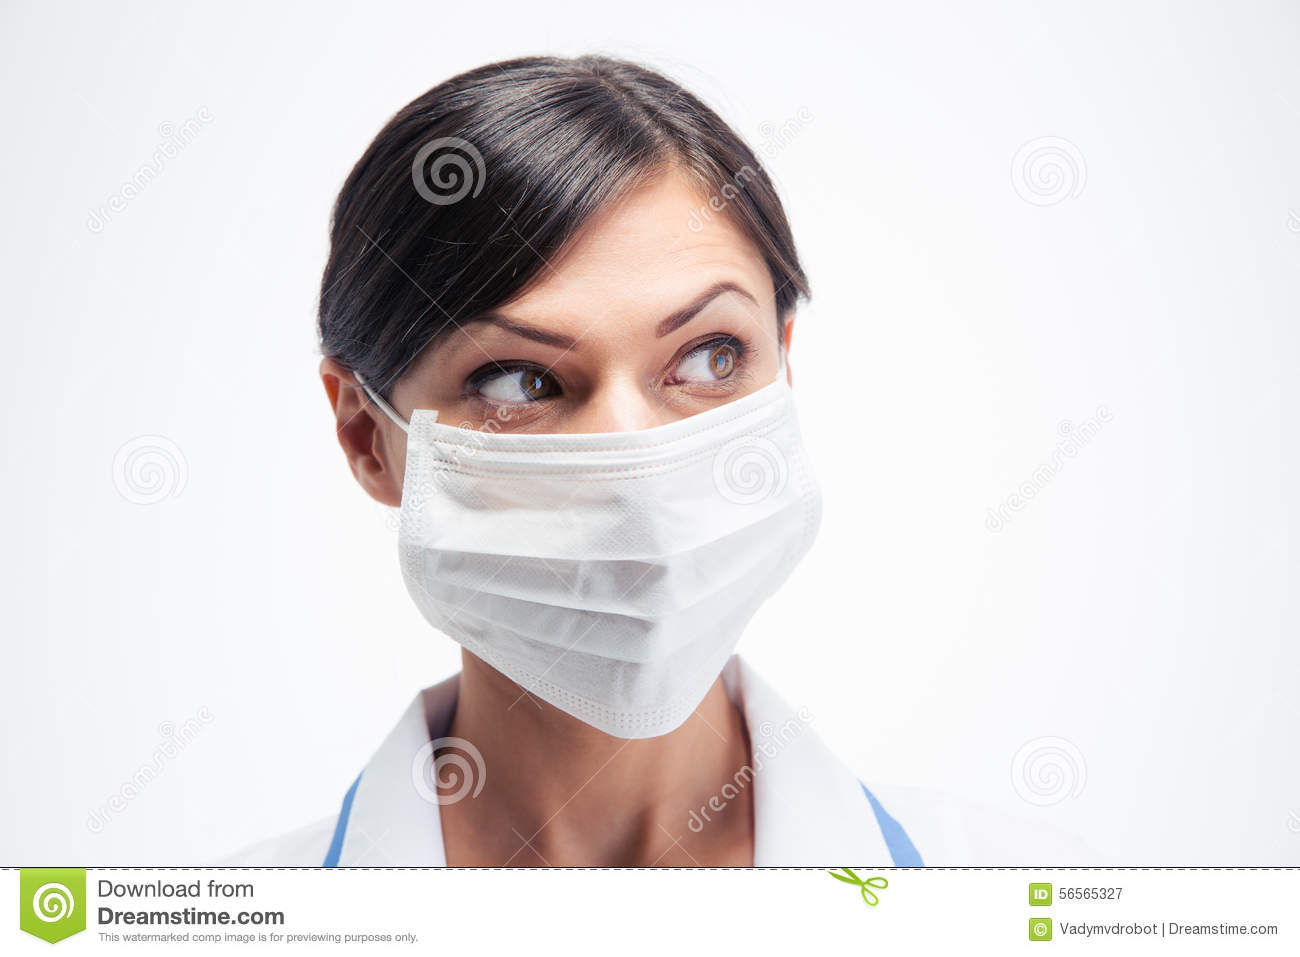mask: (371, 396, 843, 716)
